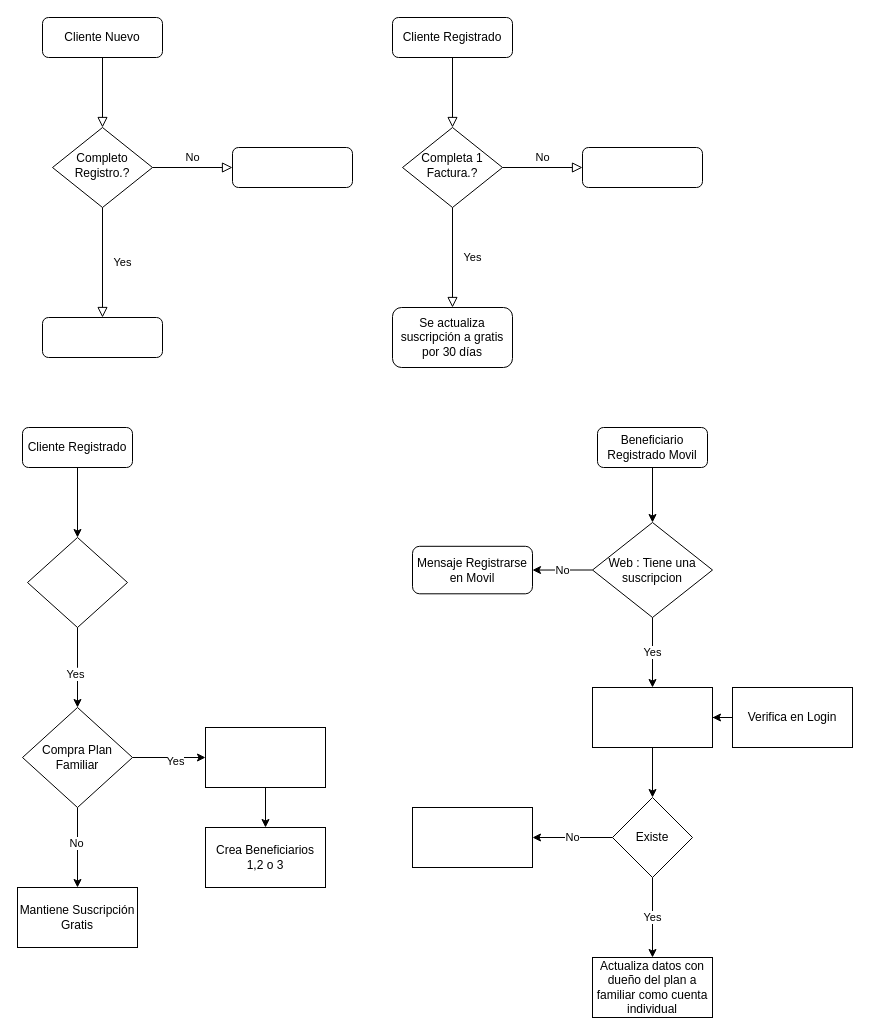
The diagram is 870 pixels wide and 1035 high, and some of its shapes have lost their labels. The box of each missing label's shape, as (x1, y1, x2, y2) in pixels:
Ha Facturado: (26, 536, 128, 628)
Permite Comprar Planes Kupuna: (412, 806, 532, 868)
Se Actualiza Plan con fecha de vigencia 1 mes: (204, 726, 326, 788)
Se crea suscripción vacia: (42, 316, 162, 358)
Suscripción Vacía: (582, 146, 702, 188)
Termina Flujo: (232, 146, 352, 188)
Verifica en base de Beneficiarios: (592, 686, 712, 748)
